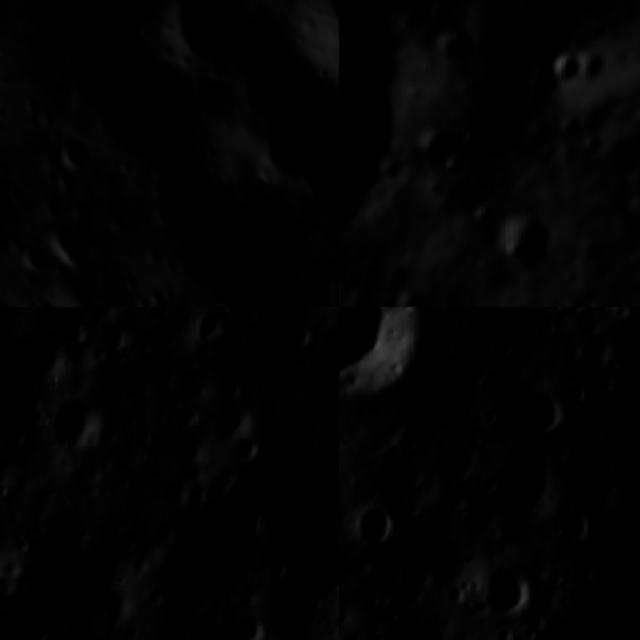crater: (61, 30, 216, 176), (339, 0, 416, 245), (162, 490, 274, 620), (138, 0, 278, 93), (269, 451, 339, 631), (339, 307, 429, 407), (0, 330, 69, 428), (222, 307, 339, 360), (78, 532, 139, 614), (34, 212, 98, 284), (491, 203, 554, 276), (502, 445, 567, 511), (476, 564, 537, 623), (49, 394, 106, 452), (514, 380, 565, 438), (431, 432, 482, 486), (207, 389, 255, 446), (565, 579, 617, 630), (48, 128, 101, 178), (225, 271, 291, 307), (541, 44, 587, 94), (354, 496, 395, 550), (430, 25, 480, 65), (188, 307, 231, 349), (557, 506, 598, 549), (456, 119, 494, 160), (95, 318, 132, 358), (229, 607, 273, 640), (339, 586, 365, 639), (402, 555, 439, 591), (416, 129, 454, 164), (52, 311, 90, 346), (462, 203, 503, 234), (382, 282, 431, 307), (435, 152, 470, 184), (369, 556, 404, 588), (314, 428, 339, 471), (562, 374, 591, 406), (326, 367, 339, 424)
